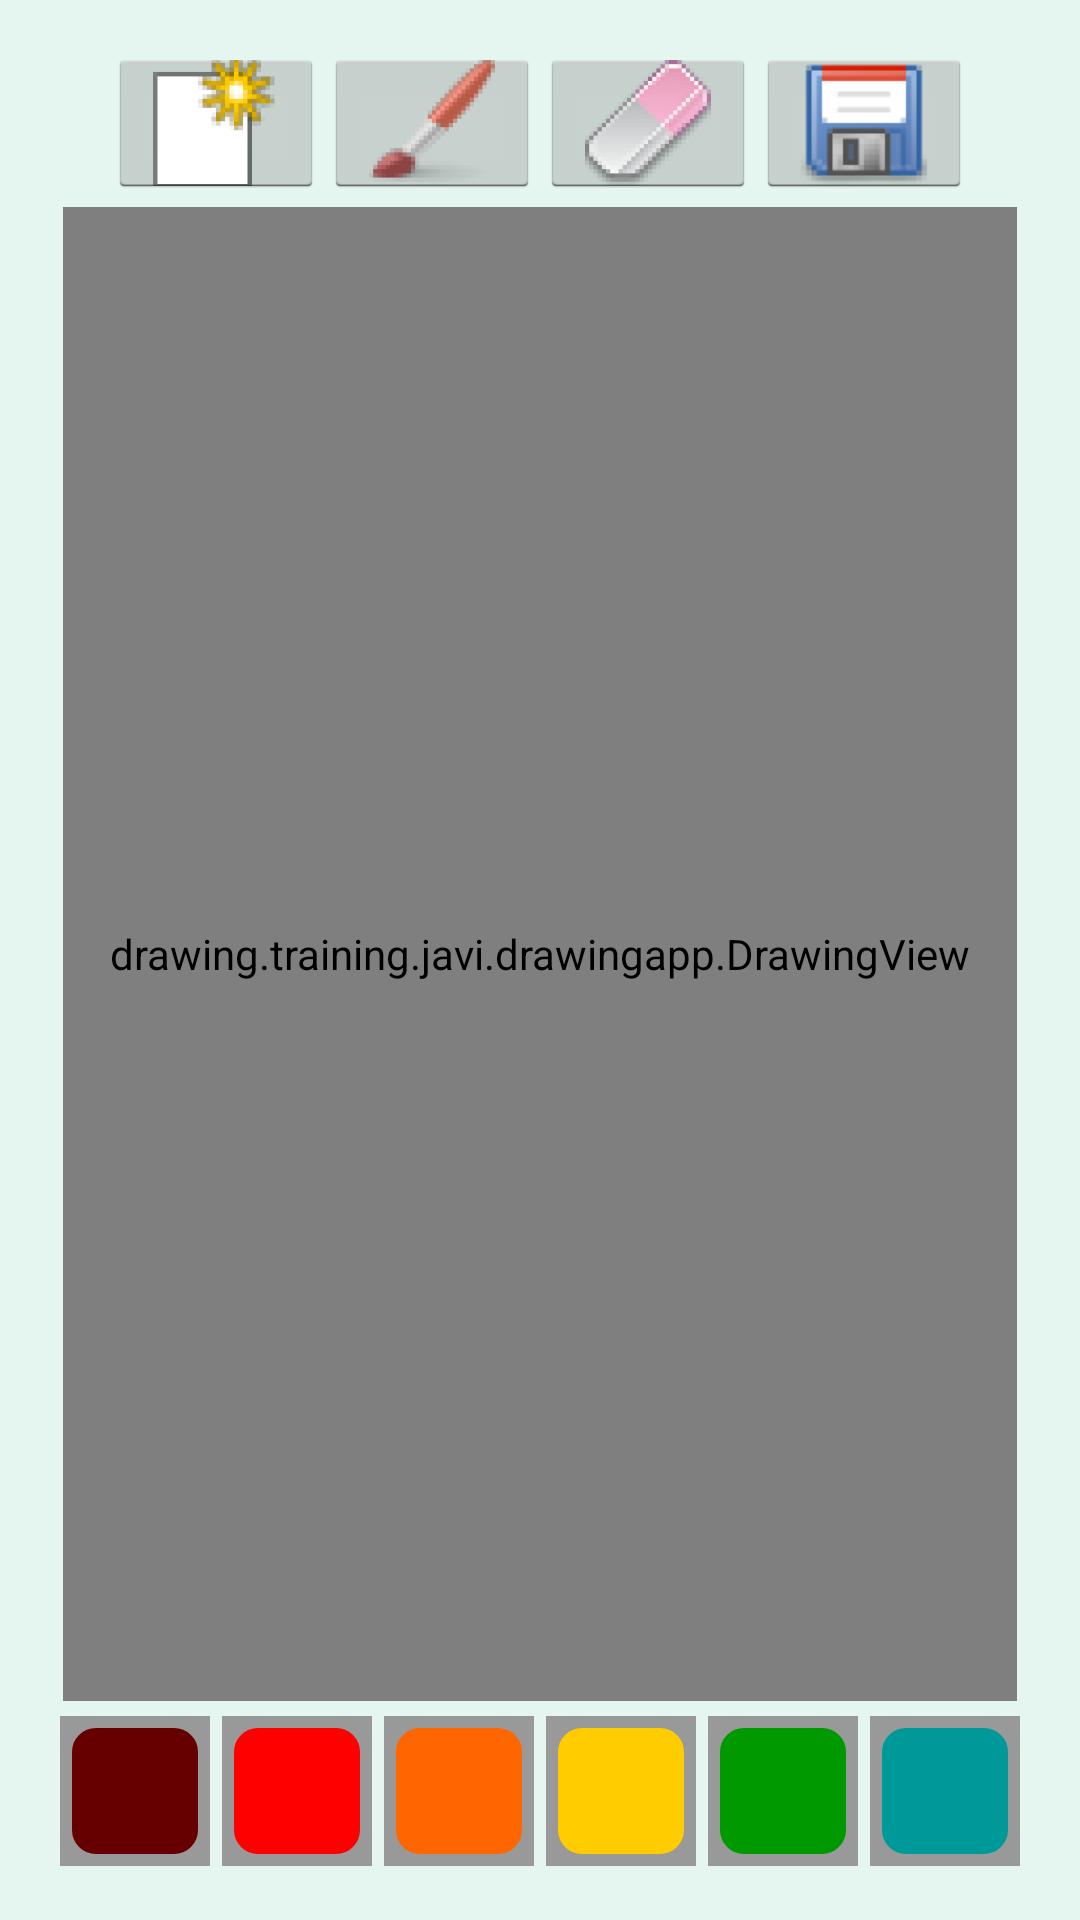

Icons on this 1080px×1920px Android screen, each with the point to tap as (x=x, y=y):
Brush: (x=432, y=123)
Erase: (x=648, y=123)
New: (x=216, y=123)
Save: (x=864, y=124)
